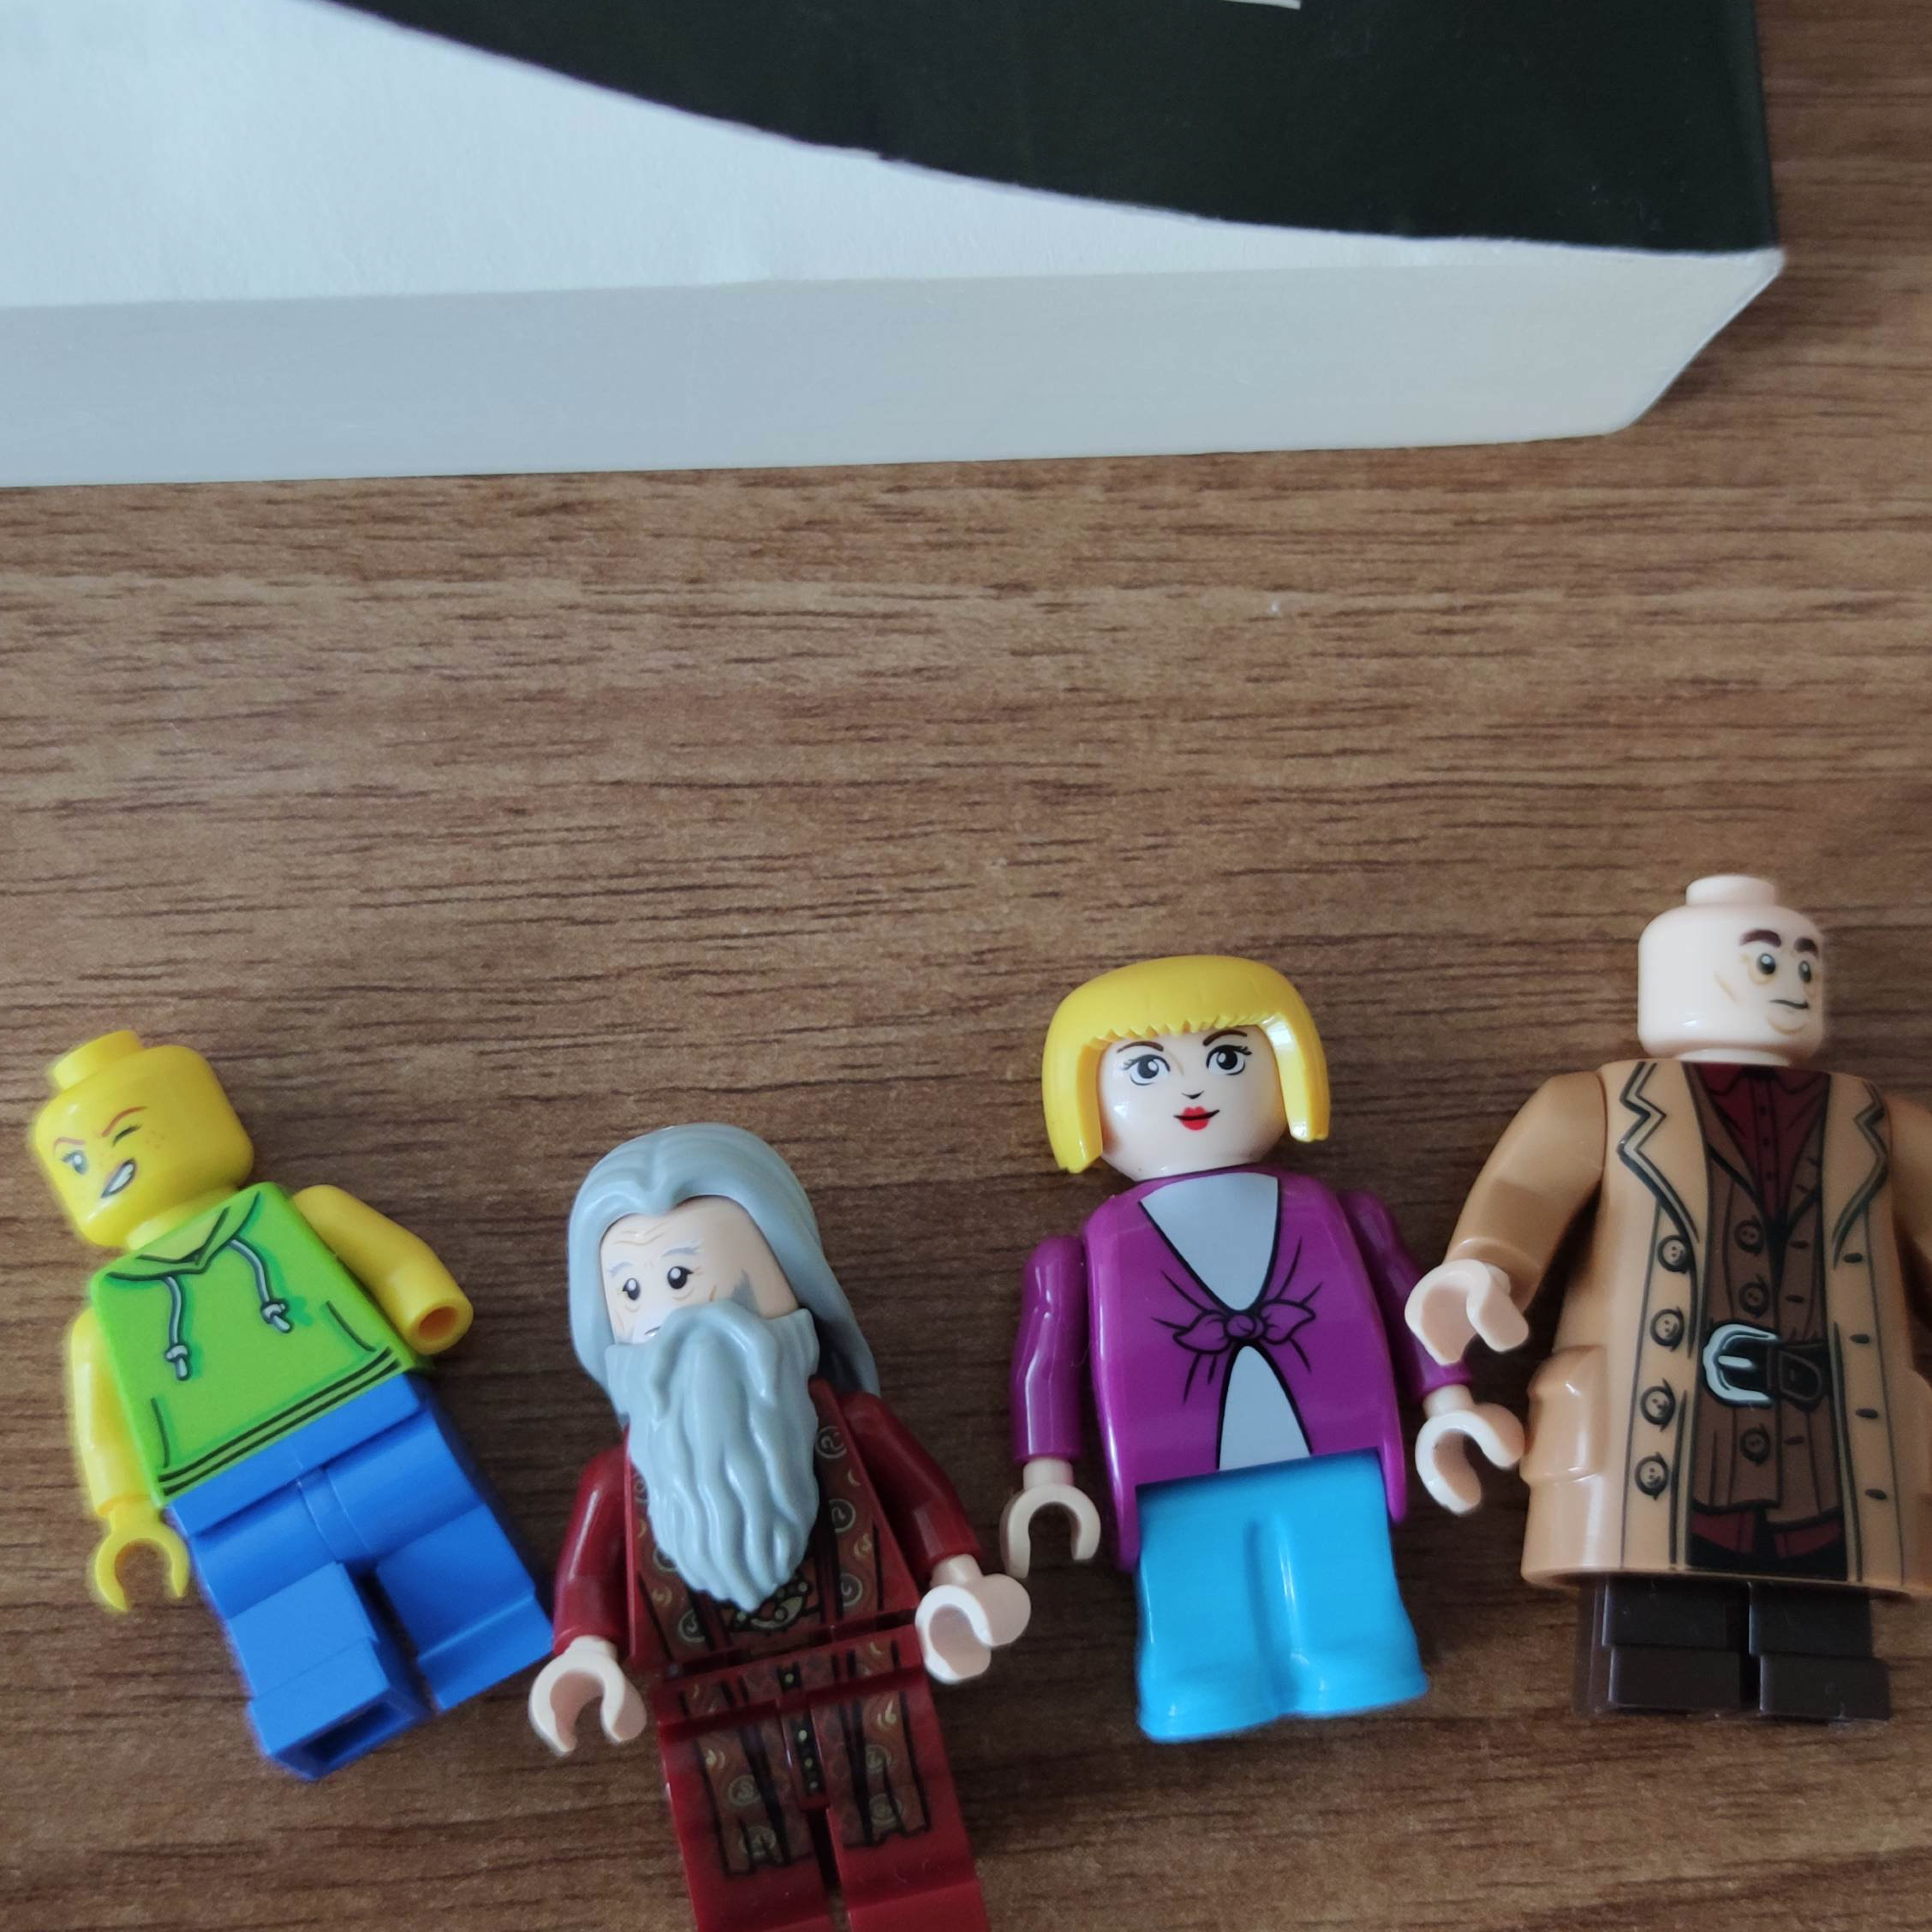lego: (1412, 872, 1932, 1720), (1003, 959, 1520, 1746), (25, 1030, 563, 1783), (525, 1123, 1026, 1932)
